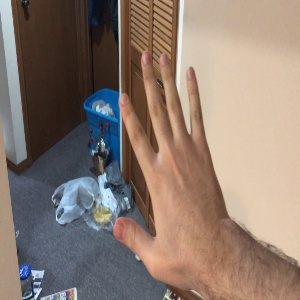hand: (113, 52, 233, 281)
